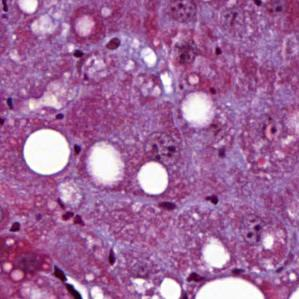inflammation: (49, 261, 88, 299)
